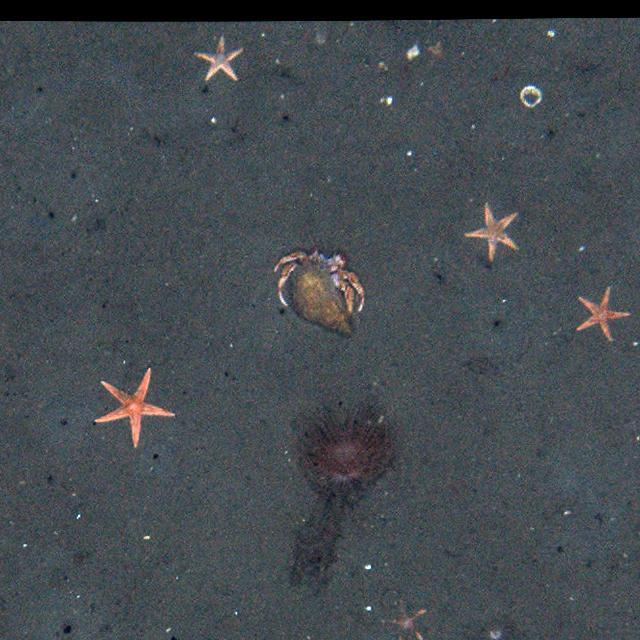crab: (278, 248, 367, 312)
